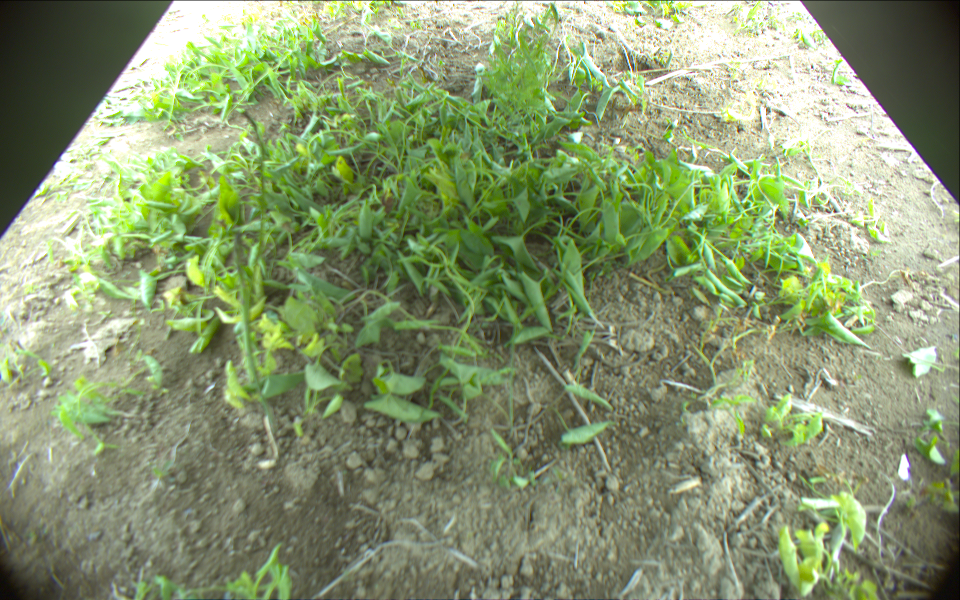aspa: (233, 234, 258, 386), (241, 111, 266, 250)
